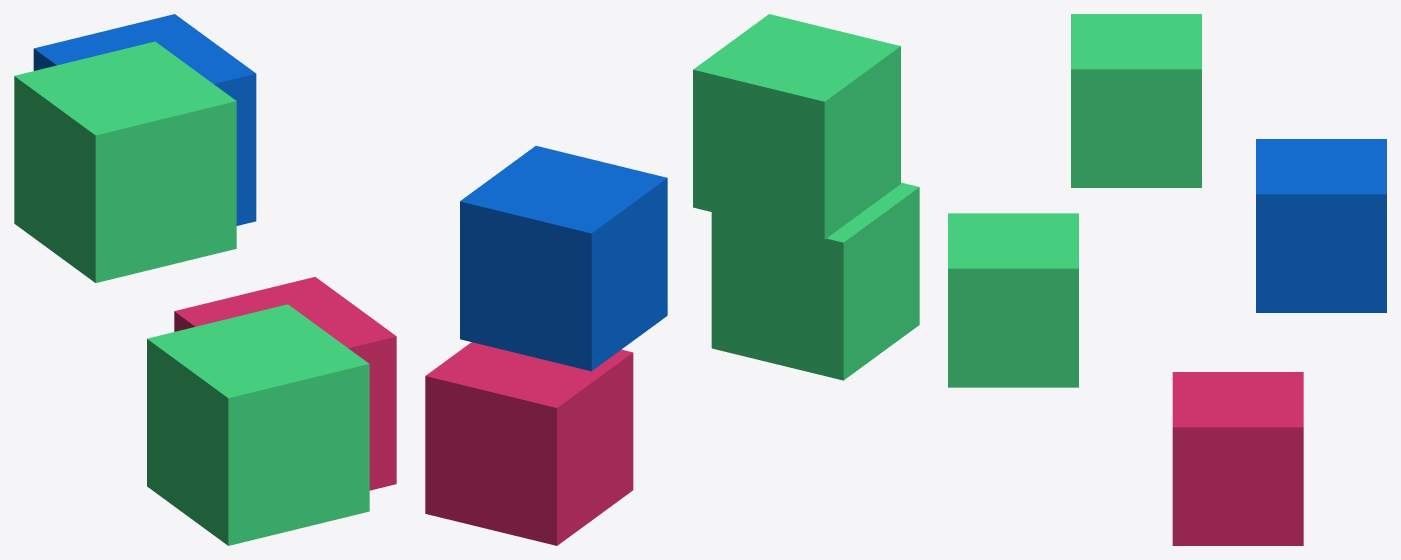
The model's file is cubeart.glb.
3 views of the same model, side by side, from view 1: azimuth 30°, elevation 25°; view 2: azimuth 150°, elevation 25°; view 3: azimuth 270°, elevation 25° (orthographic). The views are drawn at different scales.
Visible parts, largest first — view 1: Cube, Cube.001, Cube.003, Cube.002; view 2: Cube.001, Cube.002, Cube.003, Cube; view 3: Cube.003, Cube, Cube.001, Cube.002.
Boxes of the visible parts, x1,y1,x2,y2 form: Cube: (147,304,369,545); Cube.001: (14,41,236,282); Cube.003: (174,277,396,490); Cube.002: (33,14,256,225); Cube.001: (693,14,900,239); Cube.002: (460,146,667,371); Cube.003: (425,342,633,545); Cube: (711,182,919,380); Cube.003: (1172,372,1303,545); Cube: (948,213,1078,387); Cube.001: (1071,14,1201,187); Cube.002: (1256,139,1386,312).
Bounding box in the file's own units: 5.17 × 6.55 × 6.7.
